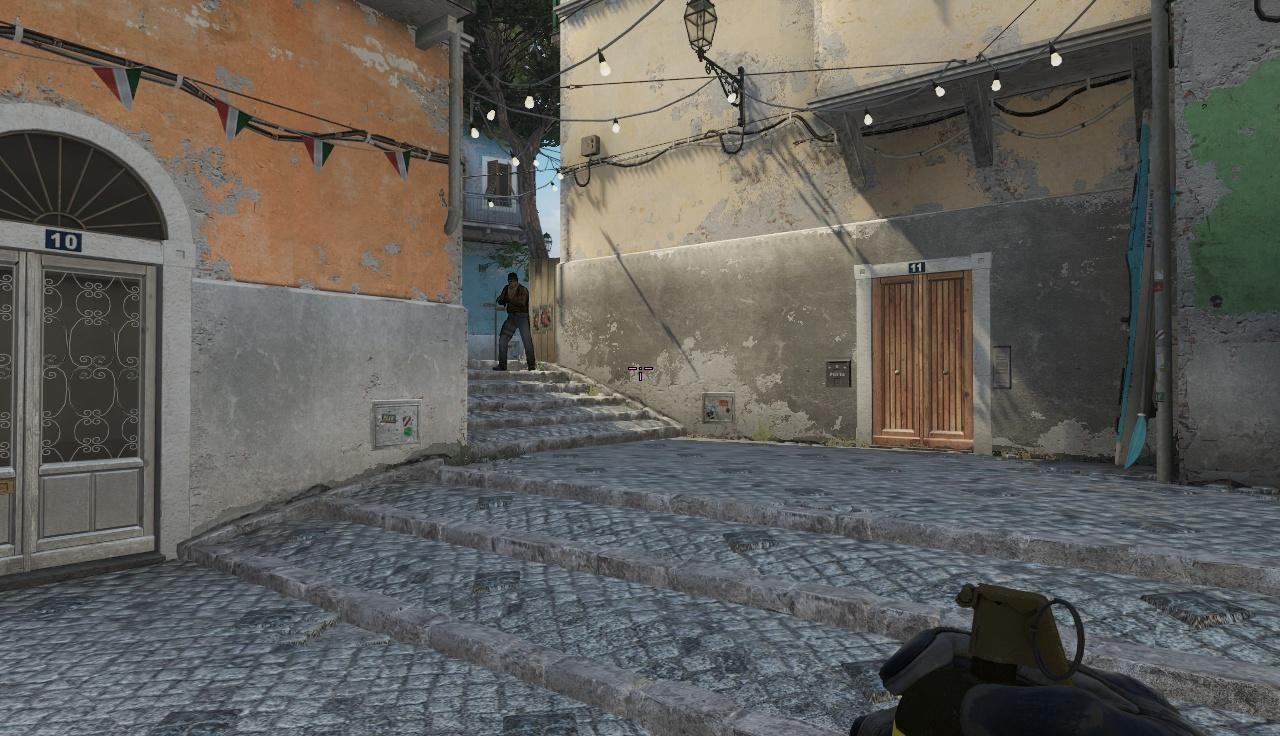tt: (497, 273, 532, 375)
tthead: (506, 274, 518, 289)
